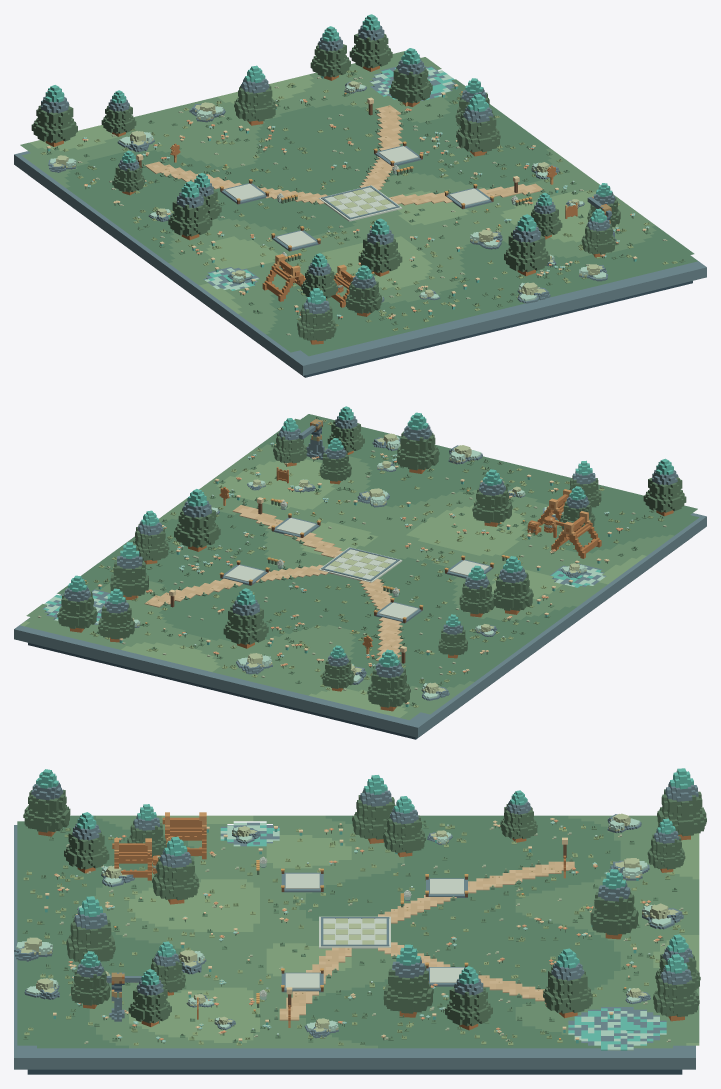
Rendered from defense_purified.glb.
The picture shows the model from 3 angles, top to bottom: view 1: azimuth 30°, elevation 25°; view 2: azimuth 150°, elevation 25°; view 3: azimuth 270°, elevation 25°; orthographic projection. The views are drawn at different scales.
Parts seen in each view (by area): view 1: defense_ground, defense_occluders; view 2: defense_ground, defense_occluders; view 3: defense_ground, defense_occluders.
Boxes of the visible parts, x1=… form: defense_ground: x1=14, y1=51, x2=706, y2=377; defense_occluders: x1=31, y1=14, x2=620, y2=344; defense_ground: x1=14, y1=414, x2=706, y2=739; defense_occluders: x1=57, y1=406, x2=686, y2=711; defense_ground: x1=14, y1=815, x2=699, y2=1074; defense_occluders: x1=14, y1=768, x2=706, y2=1030.
Bounding box in the file's own units: 42.25 × 9 × 52.85.
